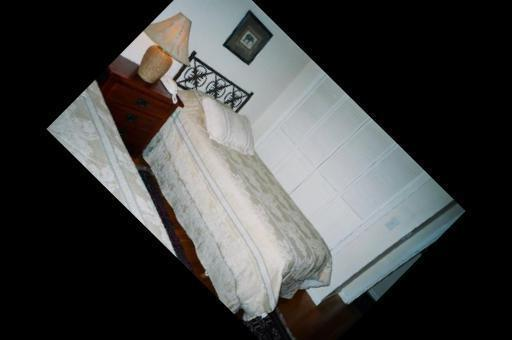Armario: (210, 77, 424, 291)
